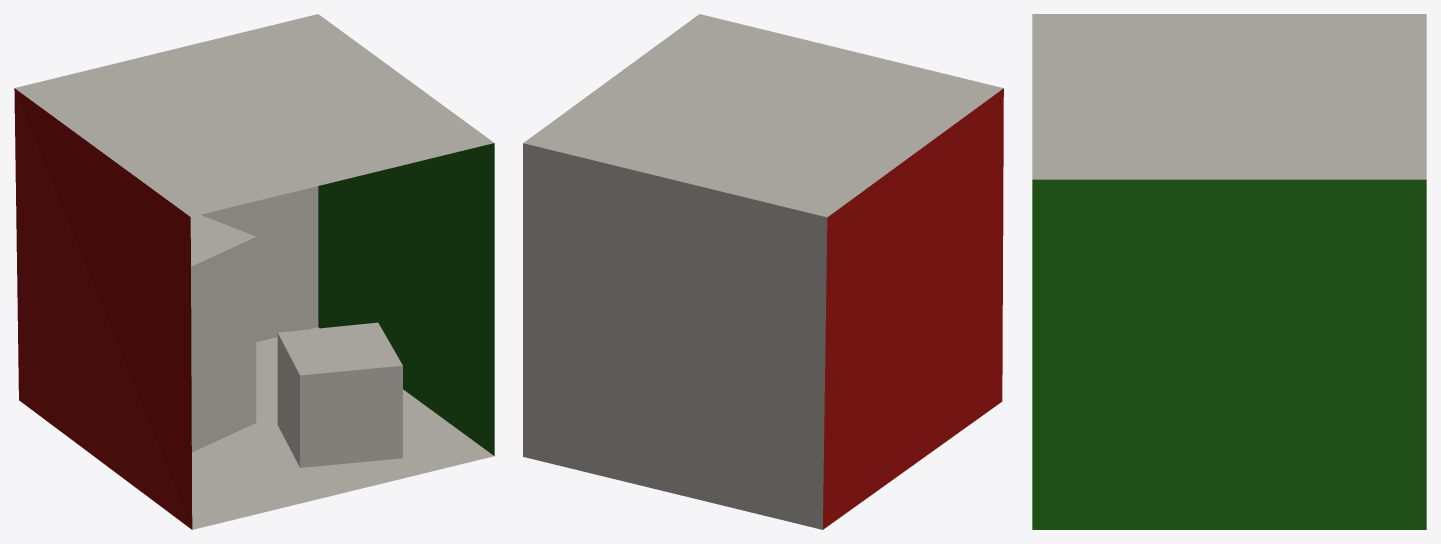
Rendered from CornellBoxRadiosity.glb.
The picture shows the model from 3 angles, left to right: view 1: azimuth 30°, elevation 25°; view 2: azimuth 150°, elevation 25°; view 3: azimuth 270°, elevation 25°; orthographic projection. The views are drawn at different scales.
Visible parts, largest first — view 1: leftWall, ceiling, rightWall, floor, shortBox, tallBox, backWall; view 2: backWall, leftWall, ceiling; view 3: rightWall, ceiling.
Part boxes in pixels (x1,y1,x2,y2): leftWall: (14,88,192,529); ceiling: (15,14,493,216); rightWall: (318,143,494,455); floor: (192,327,493,529); shortBox: (277,322,402,467); tallBox: (190,215,256,452); backWall: (200,186,318,342); backWall: (523,143,827,529); leftWall: (823,88,1003,529); ceiling: (523,14,1003,217); rightWall: (1032,179,1426,529); ceiling: (1032,14,1426,179).
Bounding box in the file's own units: 2.02 × 1.99 × 2.03.
